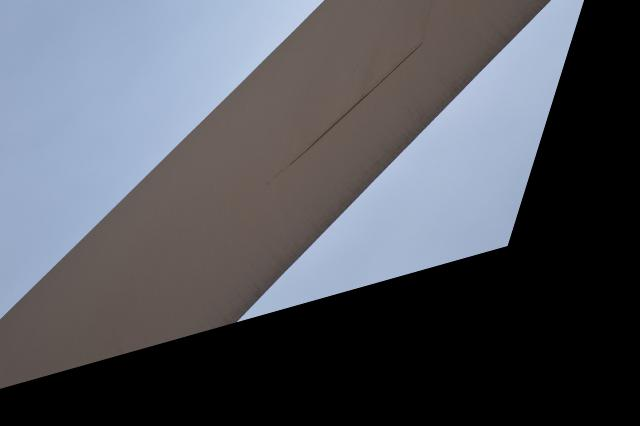damage: (303, 68, 435, 189)
